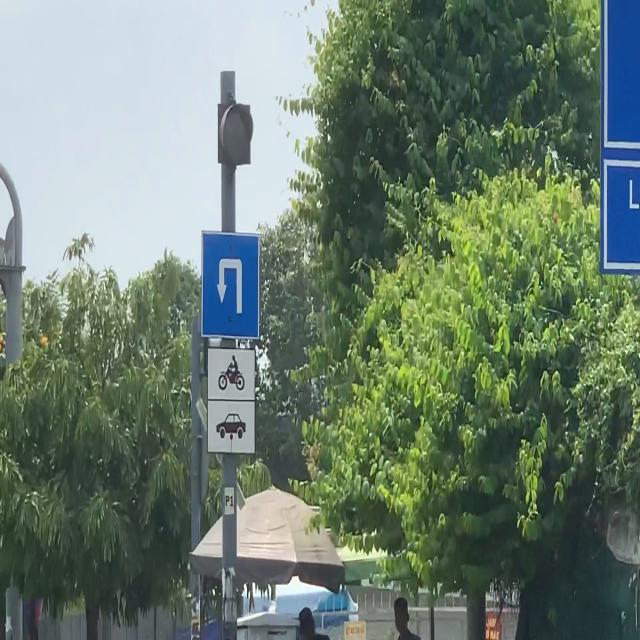Hieu lenh: (201, 229, 260, 339)
